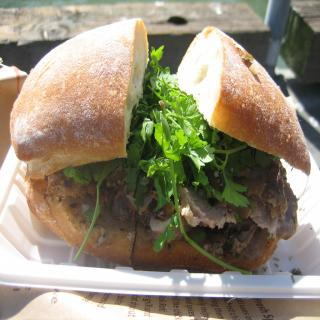Bread: (10, 18, 149, 180), (177, 28, 311, 177), (132, 203, 296, 272), (27, 174, 135, 266)
